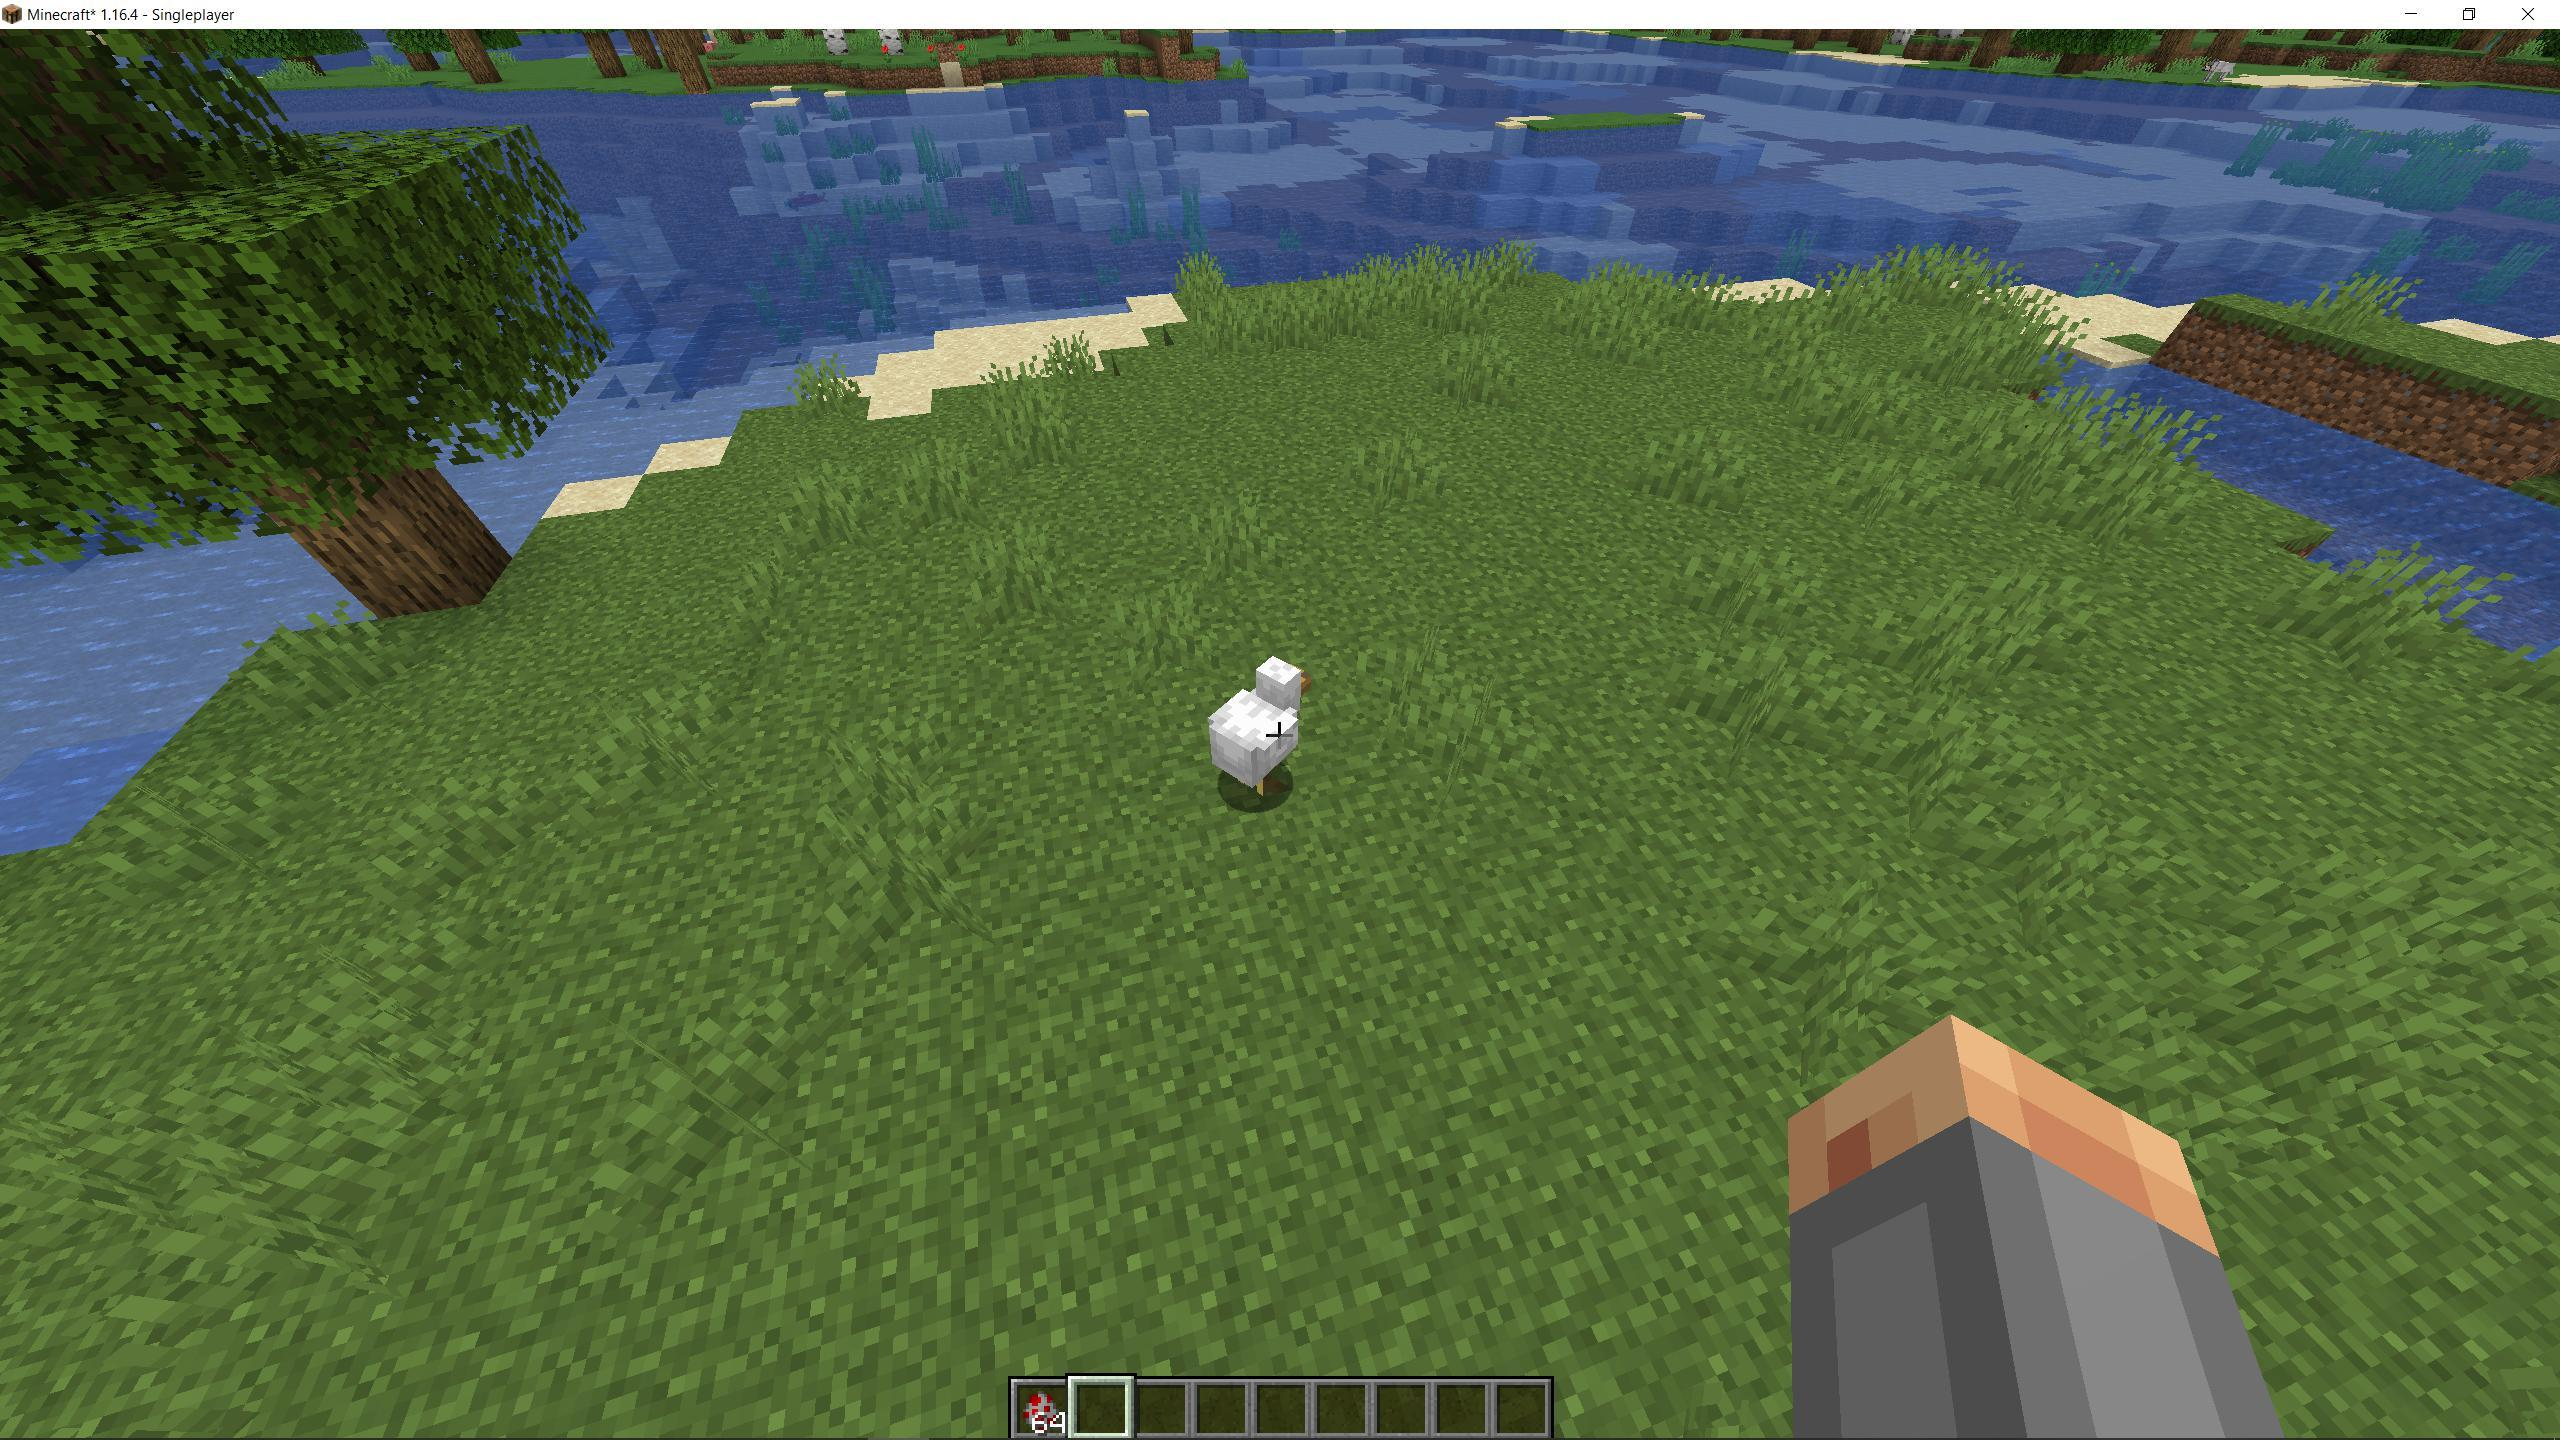chicken: (1204, 656, 1315, 812)
